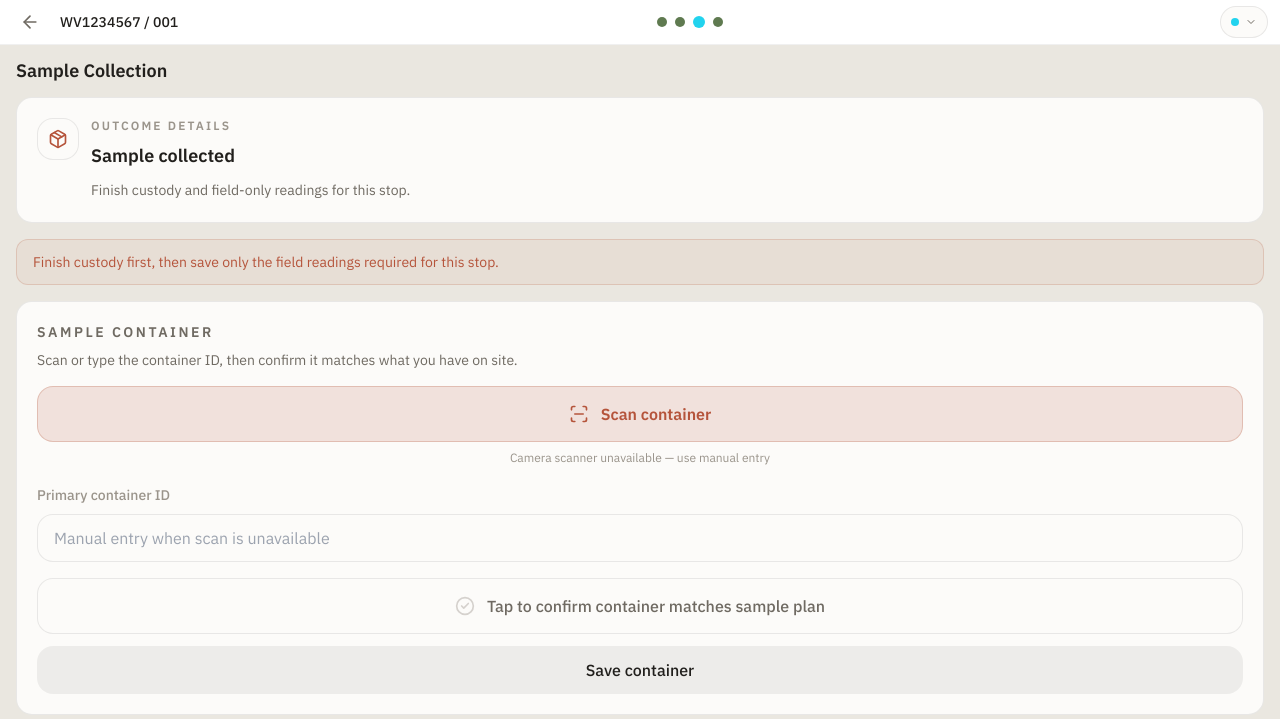
FieldVisitPage wizard › shows obstruction details when site is not reachable
Expected: the navigation bar named "Field visit wizard progress" is shown, [657,16,741,28]
Click the button named "Site Assessment" at {"x": 680, "y": 22}, box [675,17,685,27]
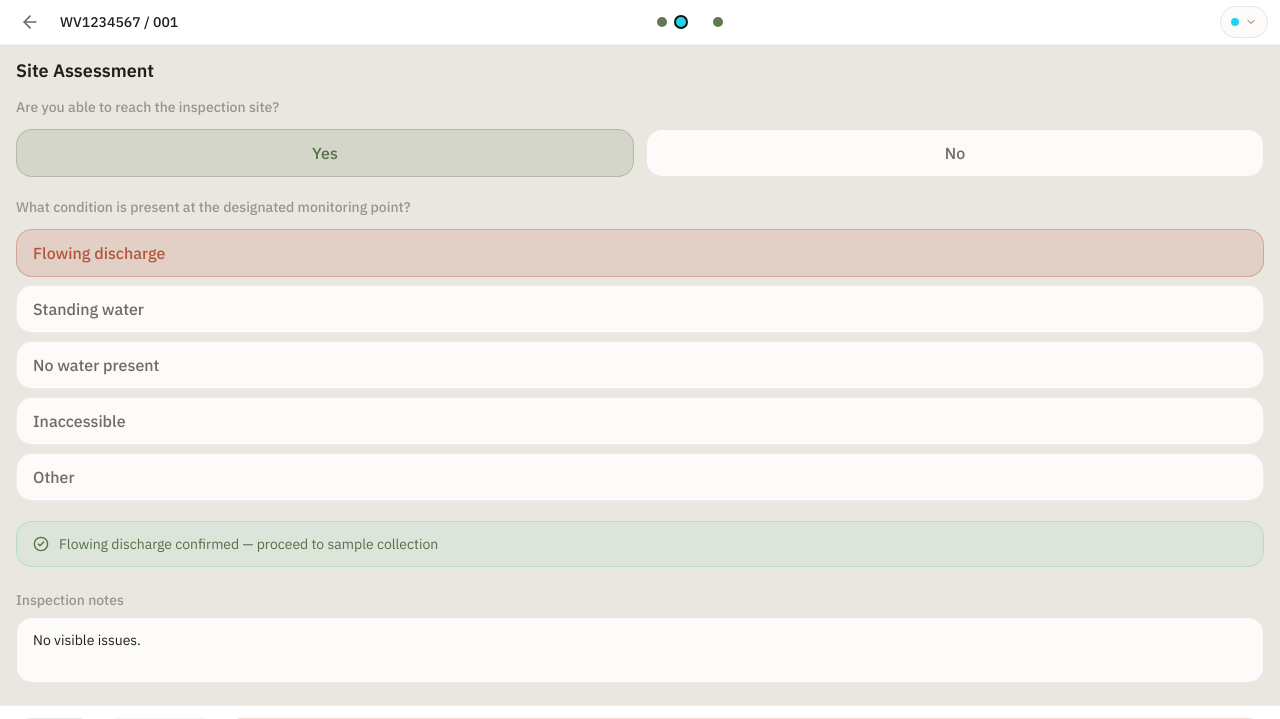
Now the heading "Site Assessment" is shown, box [16,59,154,82]
Click the button "No" at {"x": 955, "y": 153}, box [646,129,1264,177]
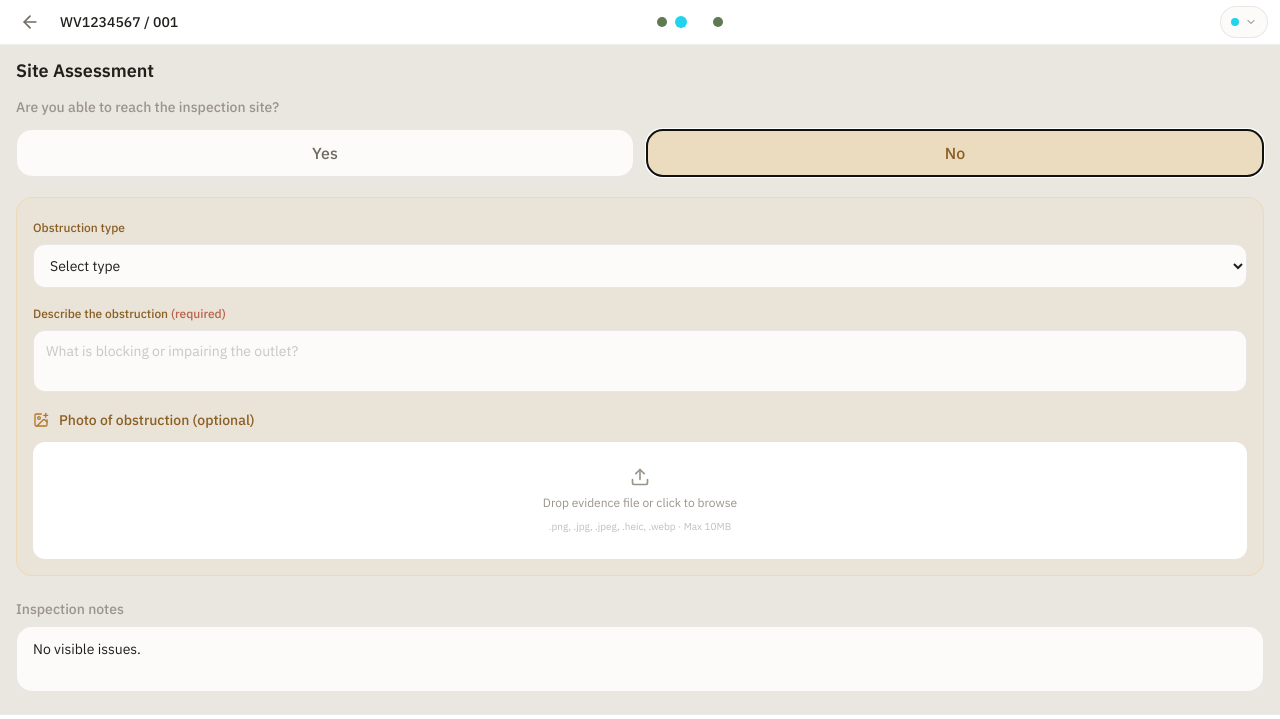
Now the text "Obstruction type" is shown, box [33,220,125,235]
Now the text "Describe the obstruction (required)" is shown, box [33,306,226,321]
Now the text "What condition is present at the designated monitoring point?" is gone
